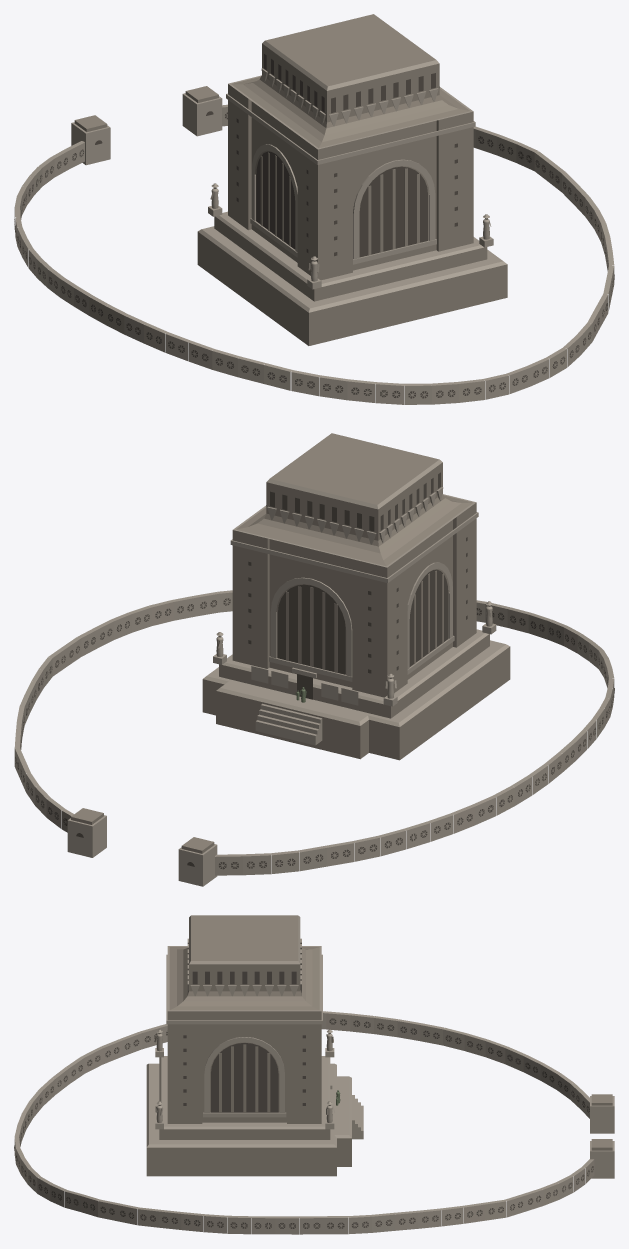
File: pretoria-voortrekker-monument.detail.glb
3 renders of one model, top to bottom at view 1: azimuth 30°, elevation 25°; view 2: azimuth 150°, elevation 25°; view 3: azimuth 270°, elevation 25°, orthographic. The views are drawn at different scales.
Parts seen in each view (by area): view 1: Voortrekker Monument; view 2: Voortrekker Monument; view 3: Voortrekker Monument.
Part boxes in pixels (x1,y1,x2,y2): Voortrekker Monument: (14,14,614,404); Voortrekker Monument: (14,433,614,886); Voortrekker Monument: (14,915,614,1234).
Size of the model in its own units: 98.05 by 48.03 by 121.
